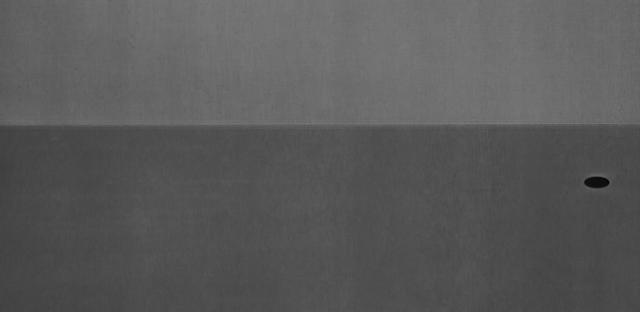punching_hole: (572, 170, 616, 192)
welding_line: (0, 114, 640, 136)
